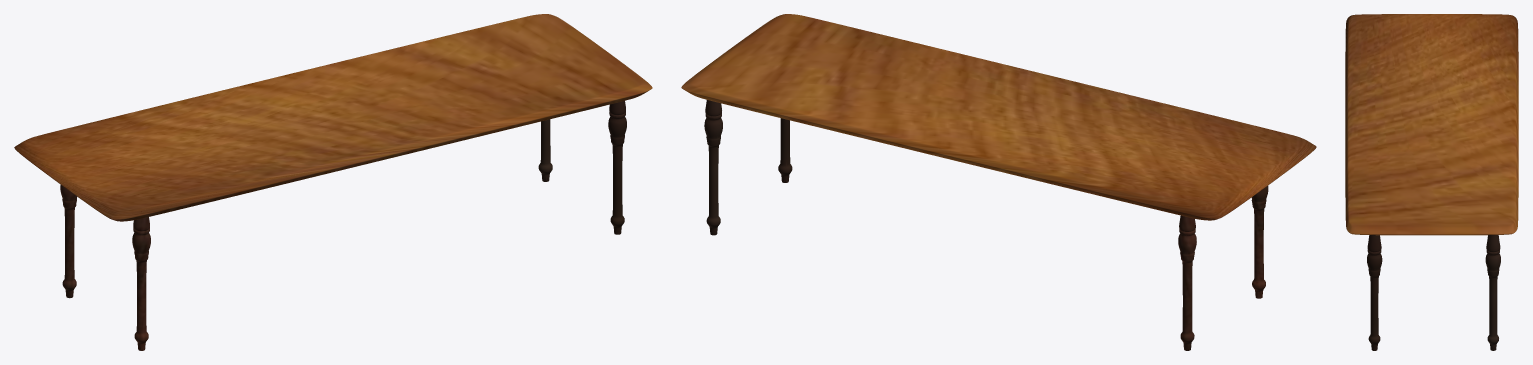
File: table.fbx
The picture shows the model from 3 angles, left to right: view 1: azimuth 30°, elevation 25°; view 2: azimuth 150°, elevation 25°; view 3: azimuth 270°, elevation 25°; orthographic projection. The views are drawn at different scales.
Parts seen in each view (by area): view 1: Cube.010, Circle.011; view 2: Cube.010, Circle.011; view 3: Cube.010, Circle.011.
Part boxes in pixels (<box>): Cube.010: <box>14,14,652,221</box>; Circle.011: <box>60,101,626,350</box>; Cube.010: <box>681,14,1316,220</box>; Circle.011: <box>704,100,1268,350</box>; Cube.010: <box>1345,14,1518,235</box>; Circle.011: <box>1367,235,1500,350</box>.
Bounding box in the file's own units: 618 × 169 × 206.
